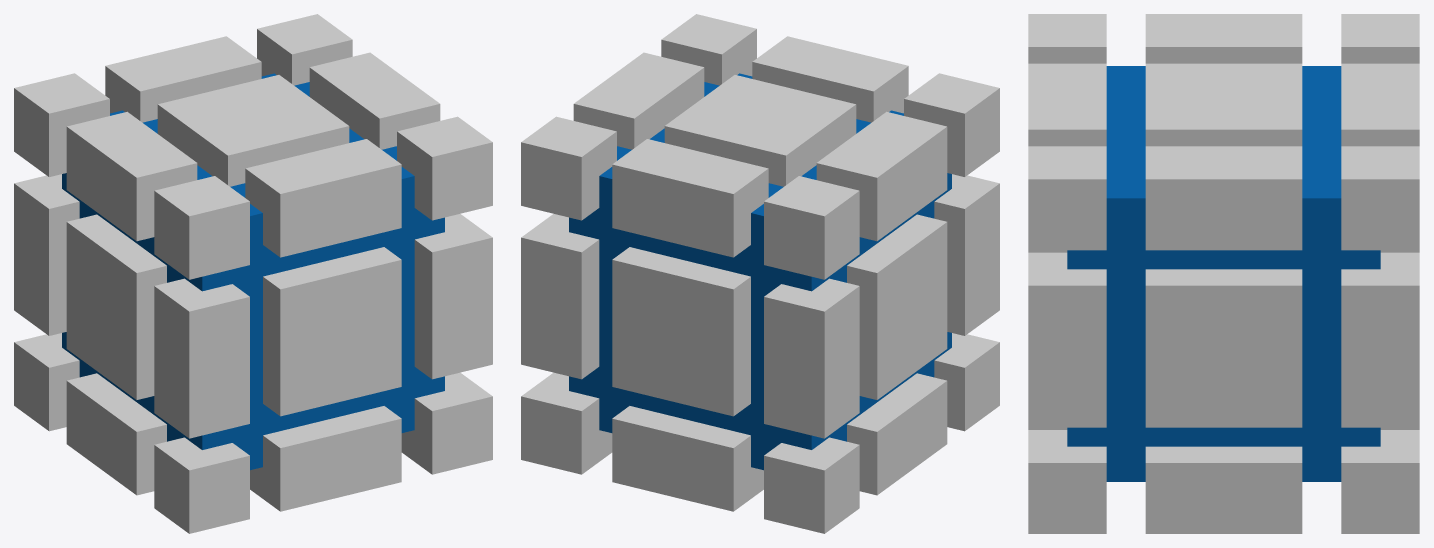
Rendered from Bloc03_fige.FBX.
3 views of the same model, side by side, from view 1: azimuth 30°, elevation 25°; view 2: azimuth 150°, elevation 25°; view 3: azimuth 270°, elevation 25° (orthographic). The views are drawn at different scales.
Parts seen in each view (by area): view 1: Bloc_03_fige; view 2: Bloc_03_fige; view 3: Bloc_03_fige.
Boxes of the visible parts, x1,y1,x2,y2 form: Bloc_03_fige: (14, 14, 492, 533); Bloc_03_fige: (521, 14, 999, 533); Bloc_03_fige: (1028, 14, 1419, 533).
Bounding box in the file's own units: 100 × 100 × 100.
